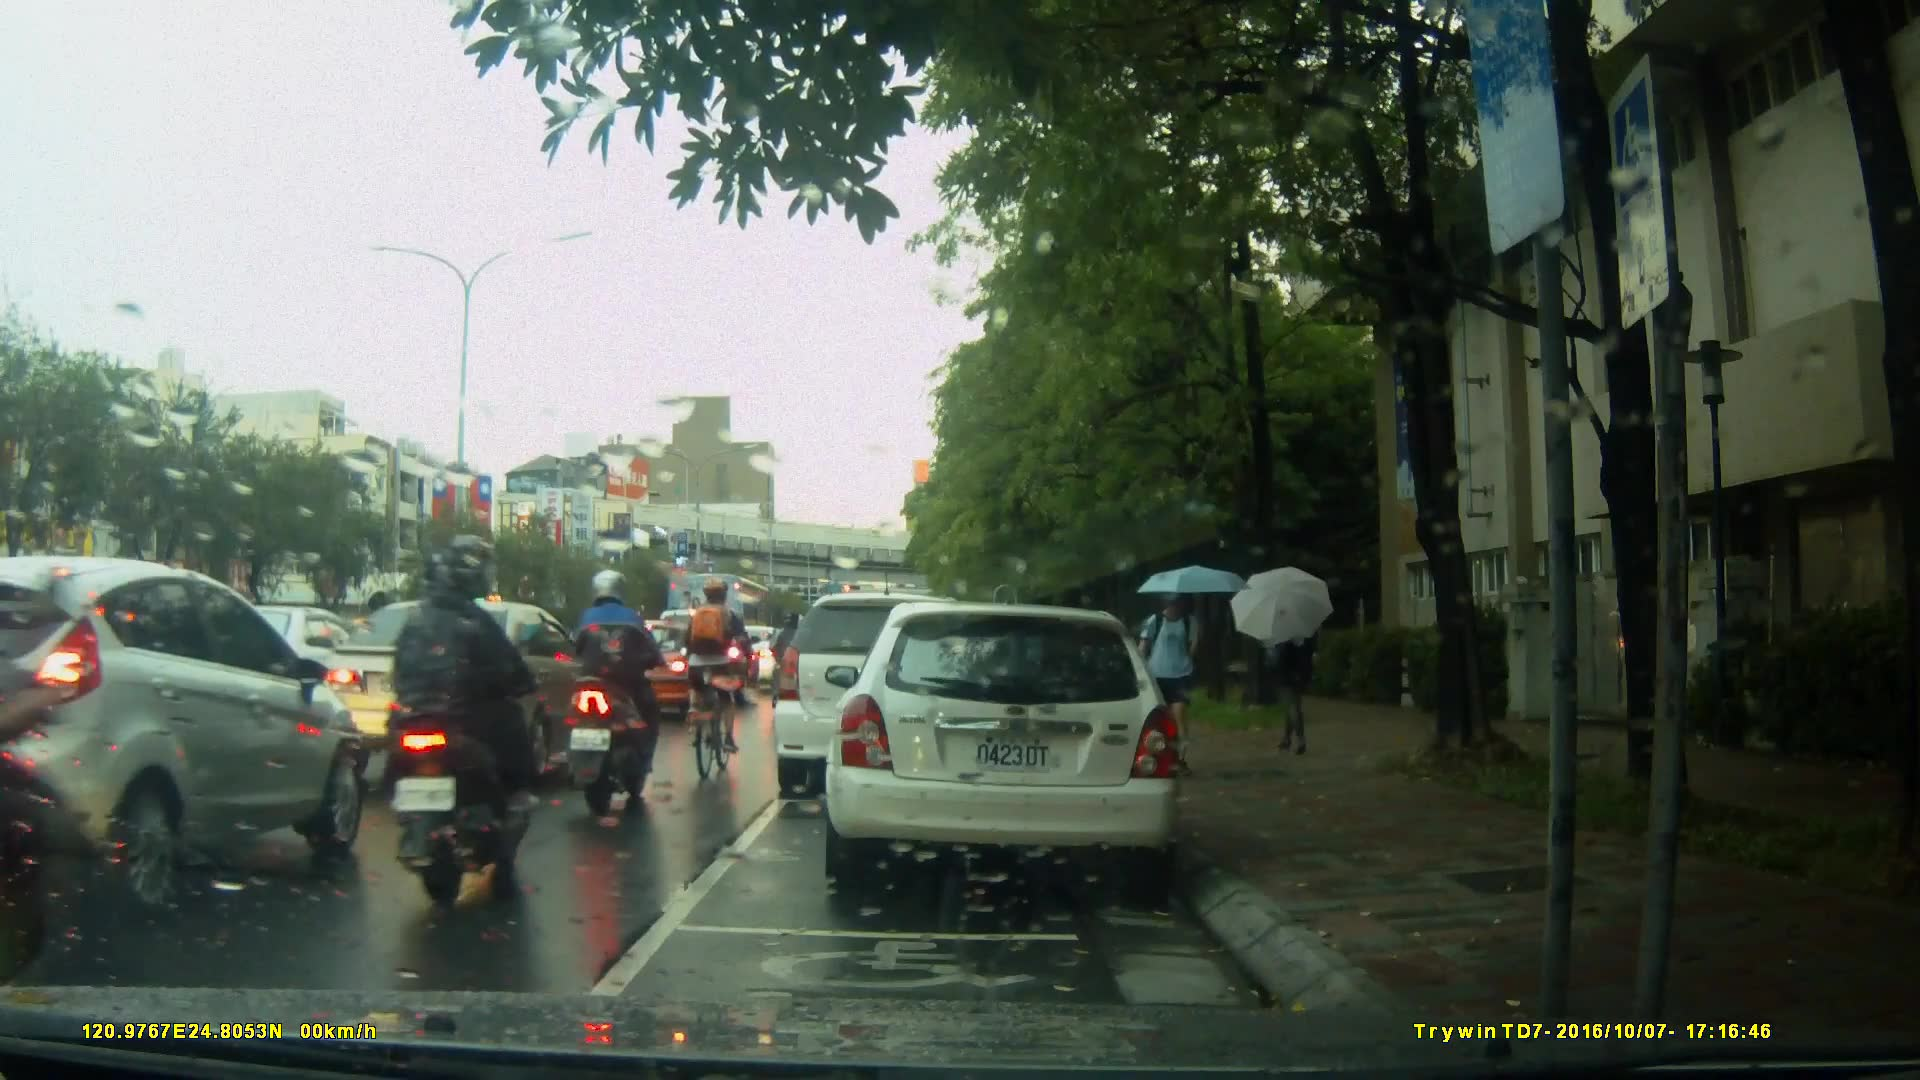pedestrian: (1146, 565, 1209, 791), (1270, 584, 1317, 756)
rider: (384, 538, 535, 918), (570, 572, 679, 818), (689, 579, 763, 785)
vehicle: (1, 552, 371, 921), (835, 594, 1194, 898), (296, 598, 617, 785), (776, 590, 1026, 784), (568, 620, 703, 721), (666, 570, 784, 673)
